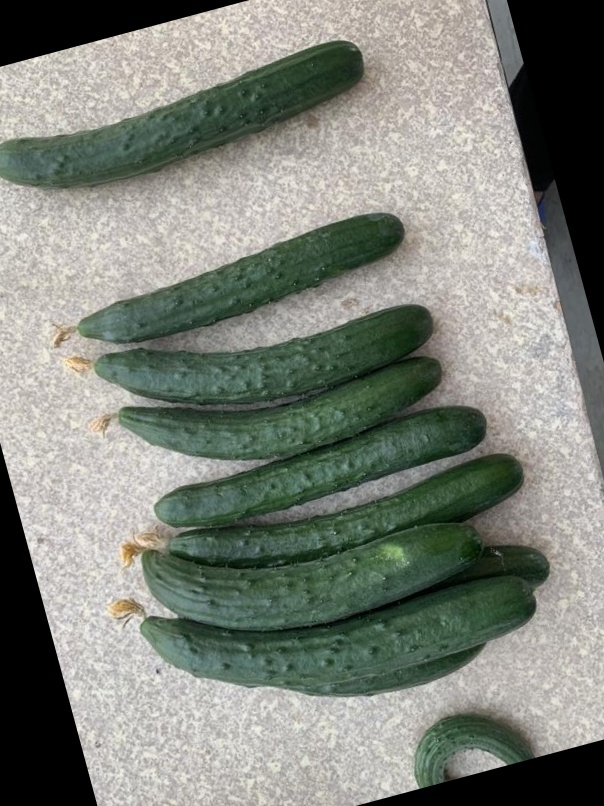mature: (2, 38, 368, 191), (74, 210, 407, 343), (140, 575, 535, 684), (151, 404, 485, 530), (167, 458, 522, 563), (112, 352, 446, 459), (96, 299, 426, 406), (131, 531, 477, 631)
